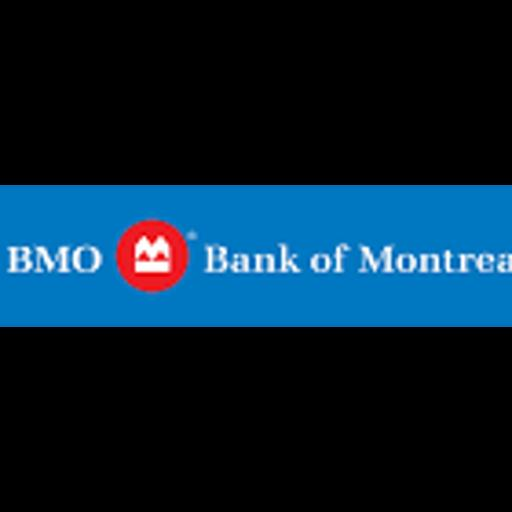Bank of Montreal: (0, 185, 512, 327)
